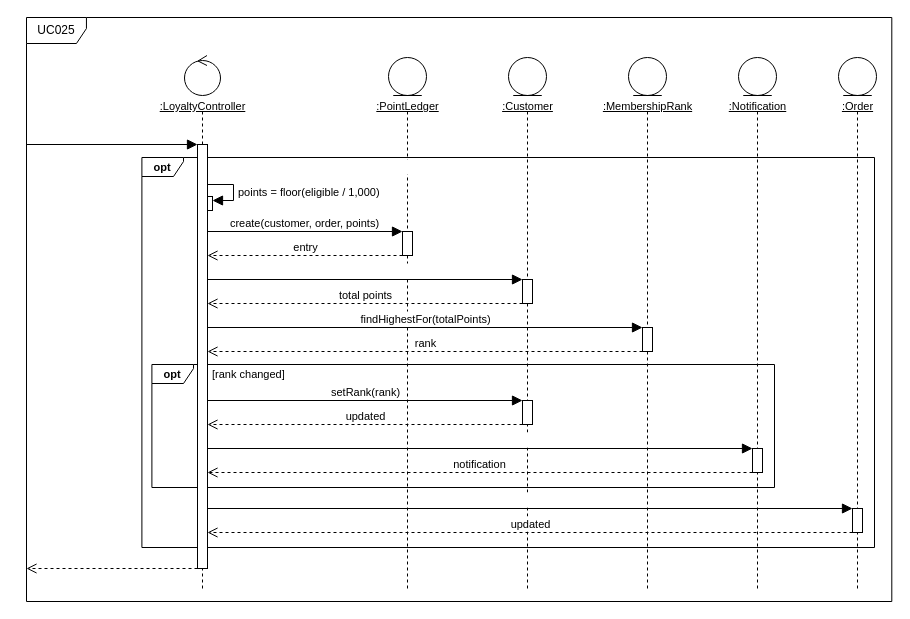
Image size: 910x619. Some labels were removed from this diagram. The box of each missing label's shape, as (x1, y1, x2, y2) in pixels:
[order has a member and no points awarded yet]: (211, 159, 456, 174)
addPoints(points): (319, 263, 410, 278)
awardPoints(order): (70, 128, 169, 143)
createRankUp(customer): (415, 432, 544, 447)
done: (105, 552, 134, 567)
markPointsAwarded(): (473, 492, 586, 507)
